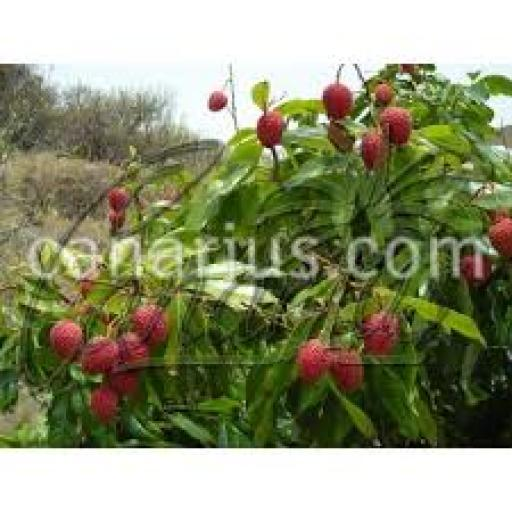lychee: (360, 312, 400, 354), (132, 305, 168, 348), (296, 340, 329, 384), (330, 349, 364, 391), (51, 321, 84, 361), (82, 337, 118, 373), (381, 107, 411, 145), (119, 333, 150, 368), (324, 82, 352, 120), (360, 130, 386, 170), (460, 253, 491, 286), (92, 385, 118, 423), (258, 110, 284, 147), (490, 219, 511, 257), (107, 371, 138, 395), (107, 187, 129, 211), (374, 82, 395, 106), (208, 92, 227, 111), (110, 210, 125, 232)
